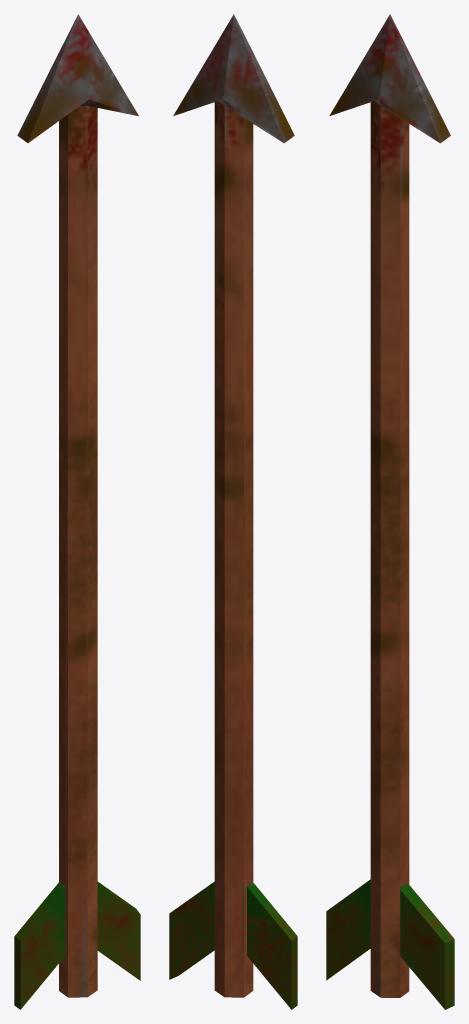
The model's file is FLECHA.obj.
3 views of the same model, side by side, from view 1: azimuth 30°, elevation 25°; view 2: azimuth 150°, elevation 25°; view 3: azimuth 330°, elevation 25° (orthographic).
Parts seen in each view (by area): view 1: Circle; view 2: Circle; view 3: Circle.
Part boxes in pixels (<box>): Circle: <box>14,14,140,1009</box>; Circle: <box>169,14,297,1009</box>; Circle: <box>326,14,454,1009</box>.
Bounding box in the file's own units: 0.4754 × 3.64 × 0.1441.
1 material, 1 textured.
